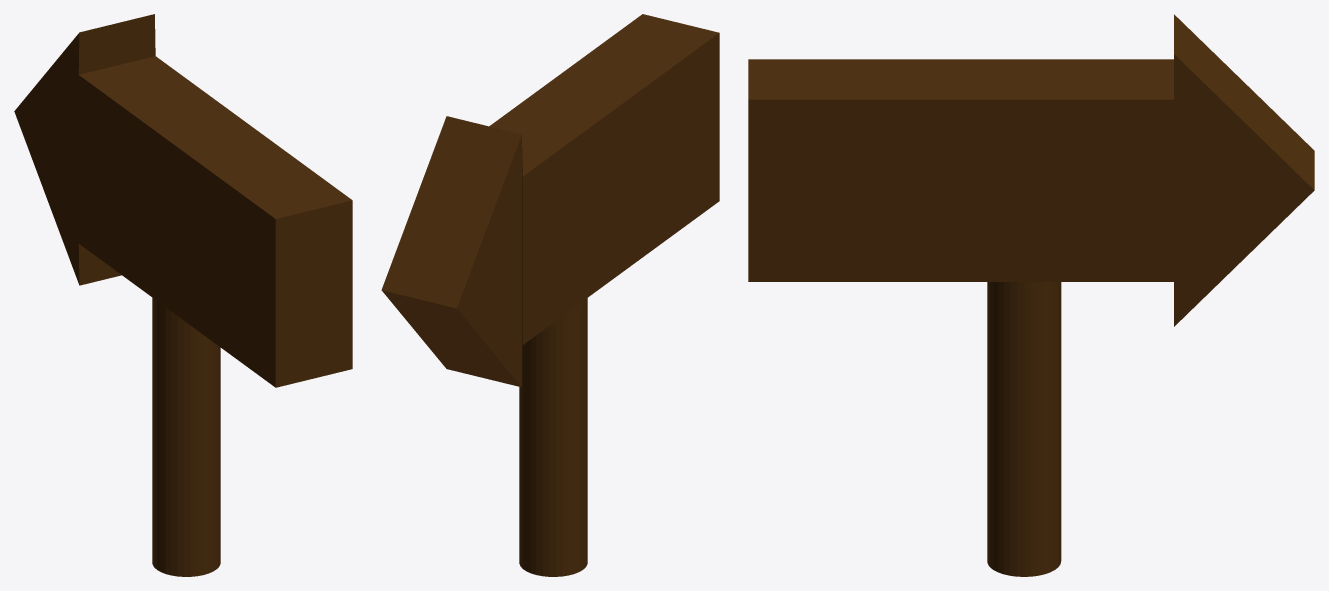
3 renders of one model, left to right at view 1: azimuth 30°, elevation 25°; view 2: azimuth 150°, elevation 25°; view 3: azimuth 270°, elevation 25°, orthographic. The views are drawn at different scales.
Parts seen in each view (by area): view 1: Cube, Cylinder; view 2: Cube, Cylinder; view 3: Cube, Cylinder.
Part boxes in pixels (x1=…): Cube: x1=14, y1=14, x2=352, y2=387; Cylinder: x1=152, y1=298, x2=220, y2=576; Cube: x1=381, y1=14, x2=719, y2=387; Cylinder: x1=519, y1=298, x2=587, y2=576; Cube: x1=748, y1=14, x2=1314, y2=326; Cylinder: x1=987, y1=282, x2=1061, y2=576.
Bounding box in the file's own units: 45.06 × 274 × 266.
